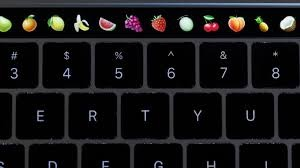keyboard: (3, 44, 300, 168)
